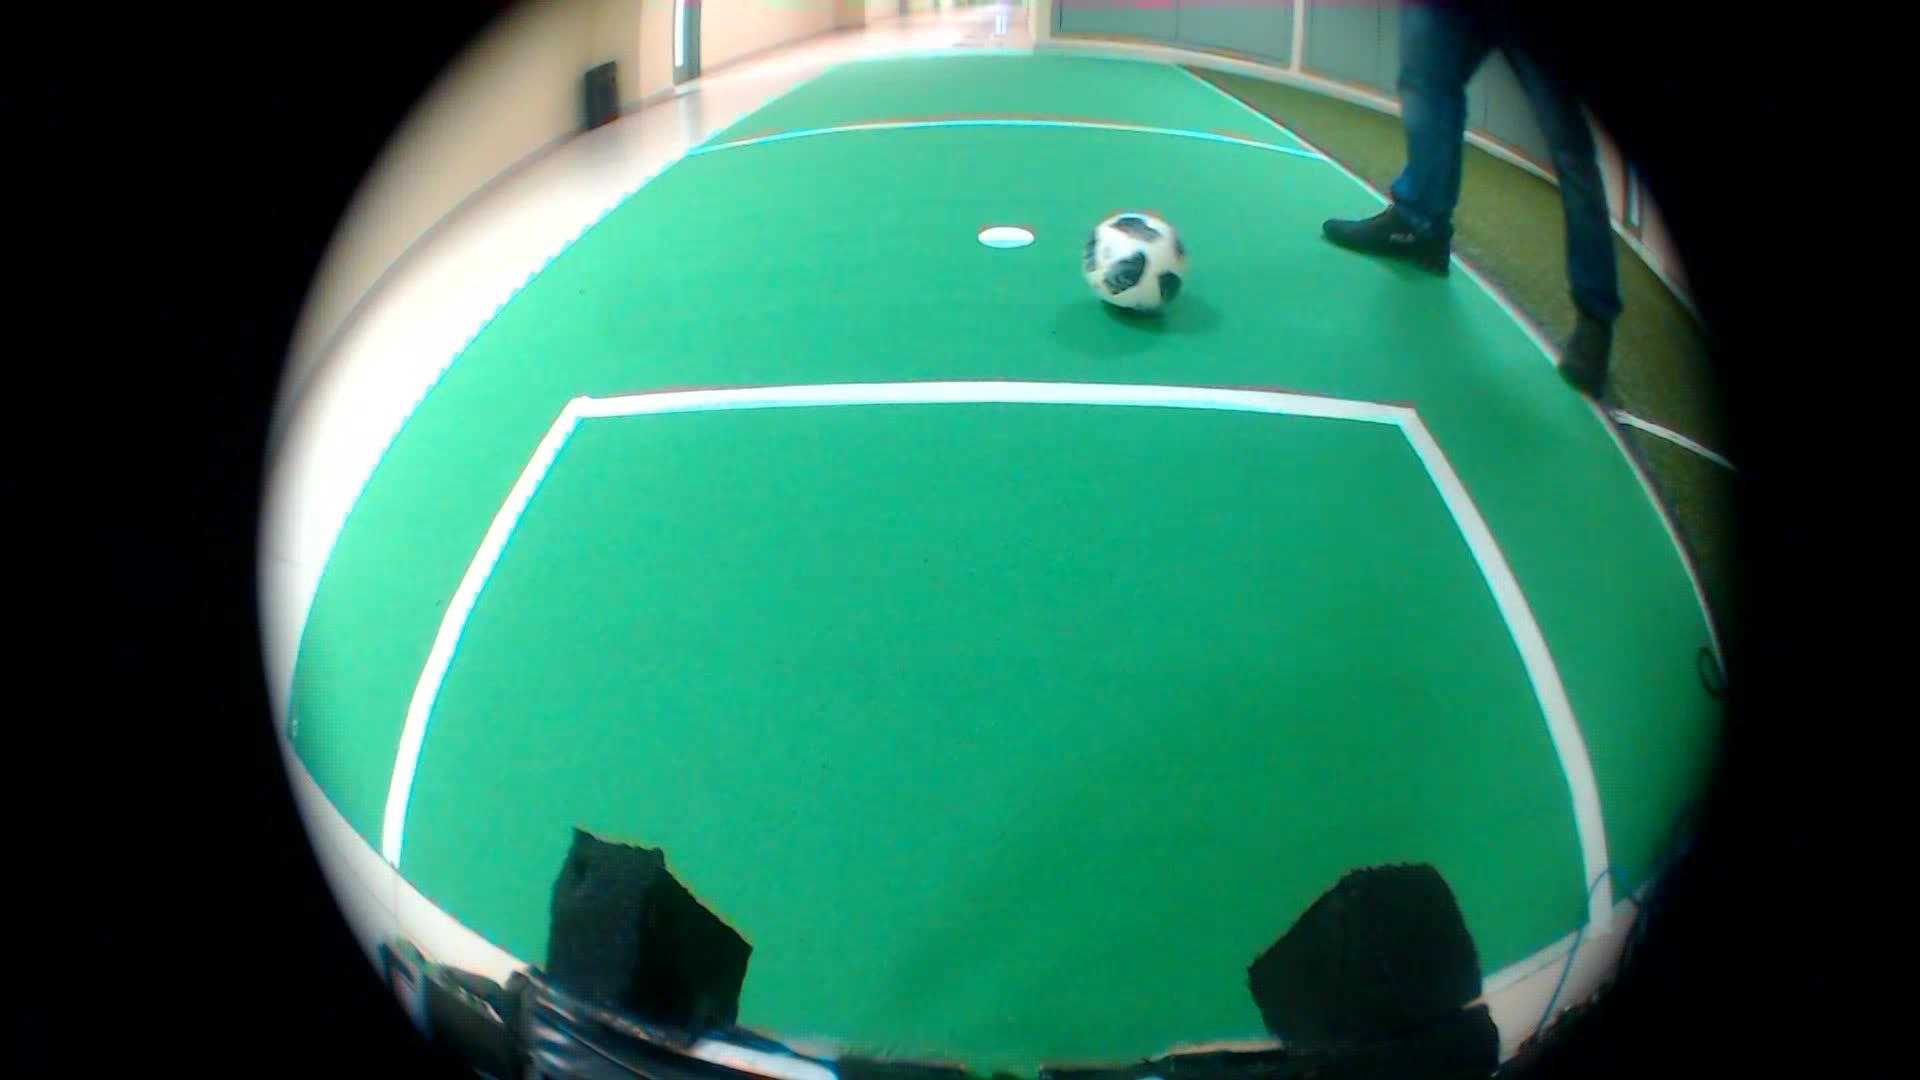ball: (1073, 189, 1205, 342)
